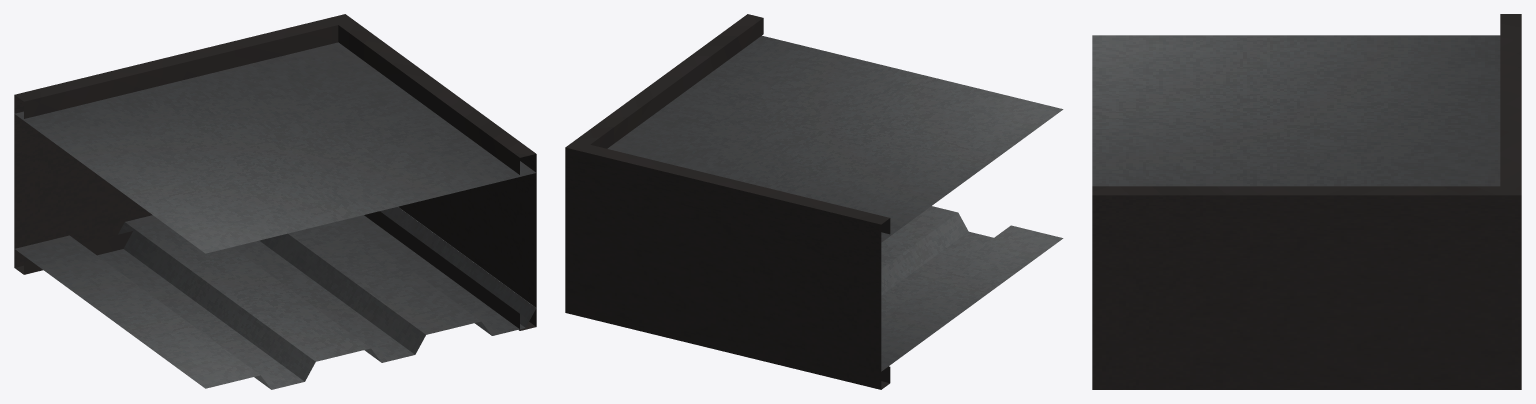
File: GasRoof_8.glb
The picture shows the model from 3 angles, left to right: view 1: azimuth 30°, elevation 25°; view 2: azimuth 150°, elevation 25°; view 3: azimuth 270°, elevation 25°; orthographic projection. The views are drawn at different scales.
Parts seen in each view (by area): view 1: GasRoof_8.001; view 2: GasRoof_8.001; view 3: GasRoof_8.001.
Boxes of the visible parts, x1,y1,x2,y2 form: GasRoof_8.001: (14,14,536,389); GasRoof_8.001: (565,14,1063,389); GasRoof_8.001: (1092,14,1521,389).
Size of the model in its own units: 2 by 1 by 2.
Materials: 1 (1 with a texture image).
